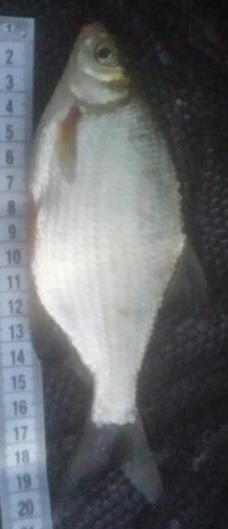Blicca bjoerkna: (20, 20, 208, 509)
